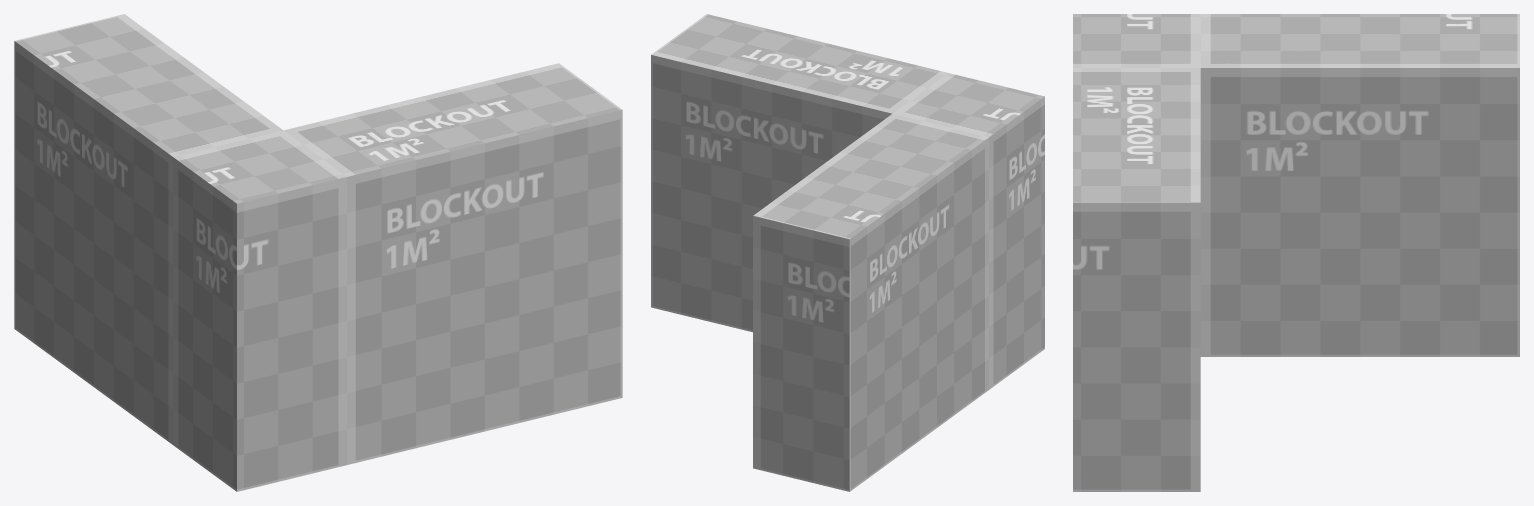
The model's file is BlockoutEdgeHalfThickOutside.fbx.
The picture shows the model from 3 angles, left to right: view 1: azimuth 30°, elevation 25°; view 2: azimuth 150°, elevation 25°; view 3: azimuth 270°, elevation 25°; orthographic projection. The views are drawn at different scales.
Parts seen in each view (by area): view 1: BlockoutEdgeHalfThickOutside; view 2: BlockoutEdgeHalfThickOutside; view 3: BlockoutEdgeHalfThickOutside.
Part boxes in pixels (bbox=[...]): BlockoutEdgeHalfThickOutside: bbox=[14, 14, 622, 491]; BlockoutEdgeHalfThickOutside: bbox=[651, 14, 1044, 491]; BlockoutEdgeHalfThickOutside: bbox=[1073, 14, 1519, 491].
Bounding box in the file's own units: 140 × 100 × 140.
